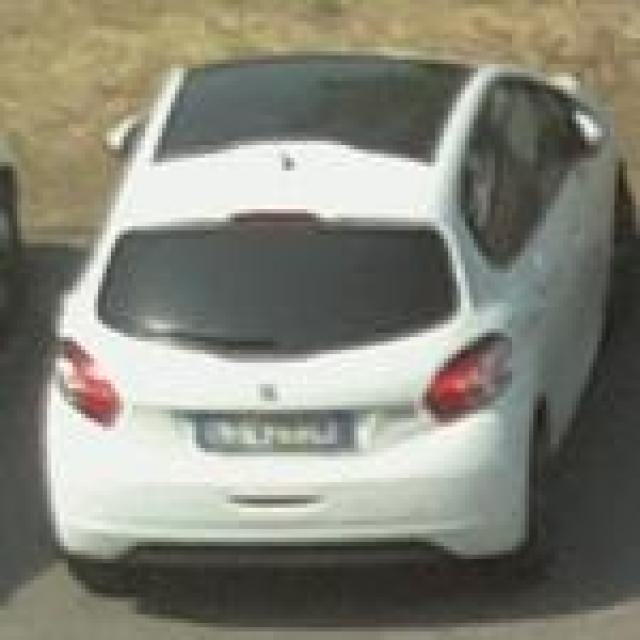cars-sUYr: (34, 30, 640, 601)
